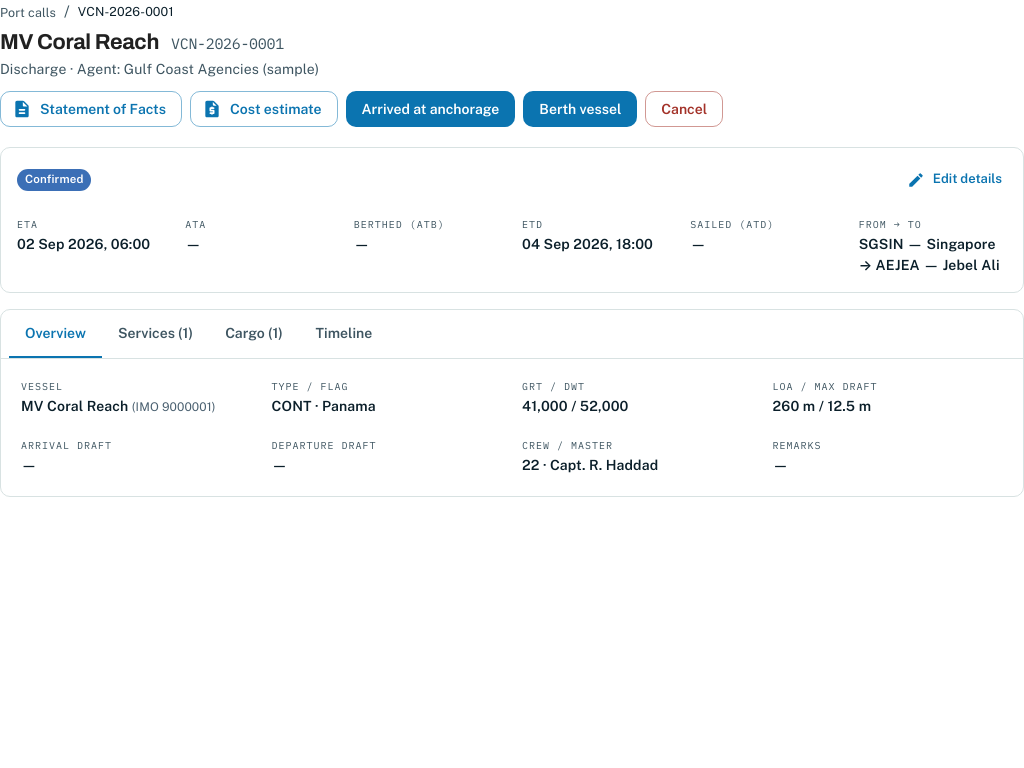
Test case: Vessel-call pages › opens the Statement of Facts
This screenshot has width=1024, height=768.
Click the button "Statement of Facts" at point(91, 109), box [0,91,182,127]
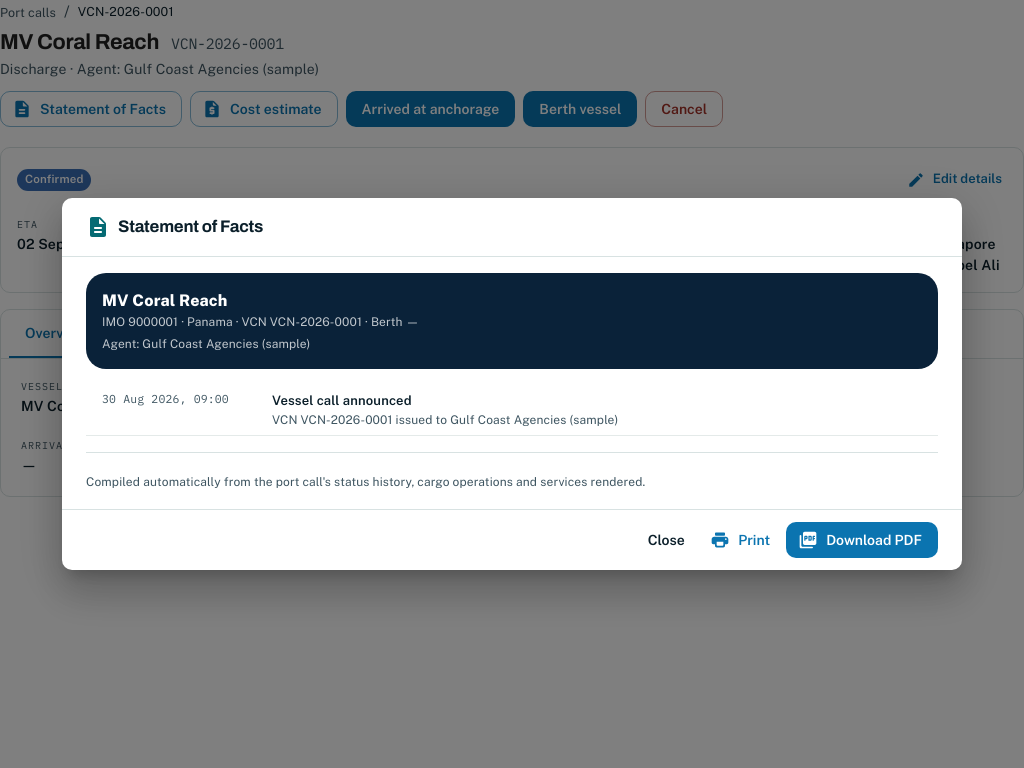
Result: the text "Vessel call announced" is shown at [272,393,412,408]
Result: the text "VCN VCN-2026-0001 issued to Gulf Coast Agencies (sample)" is shown at [272,413,618,427]
Result: the button "Download PDF" is shown at [786,522,938,558]
